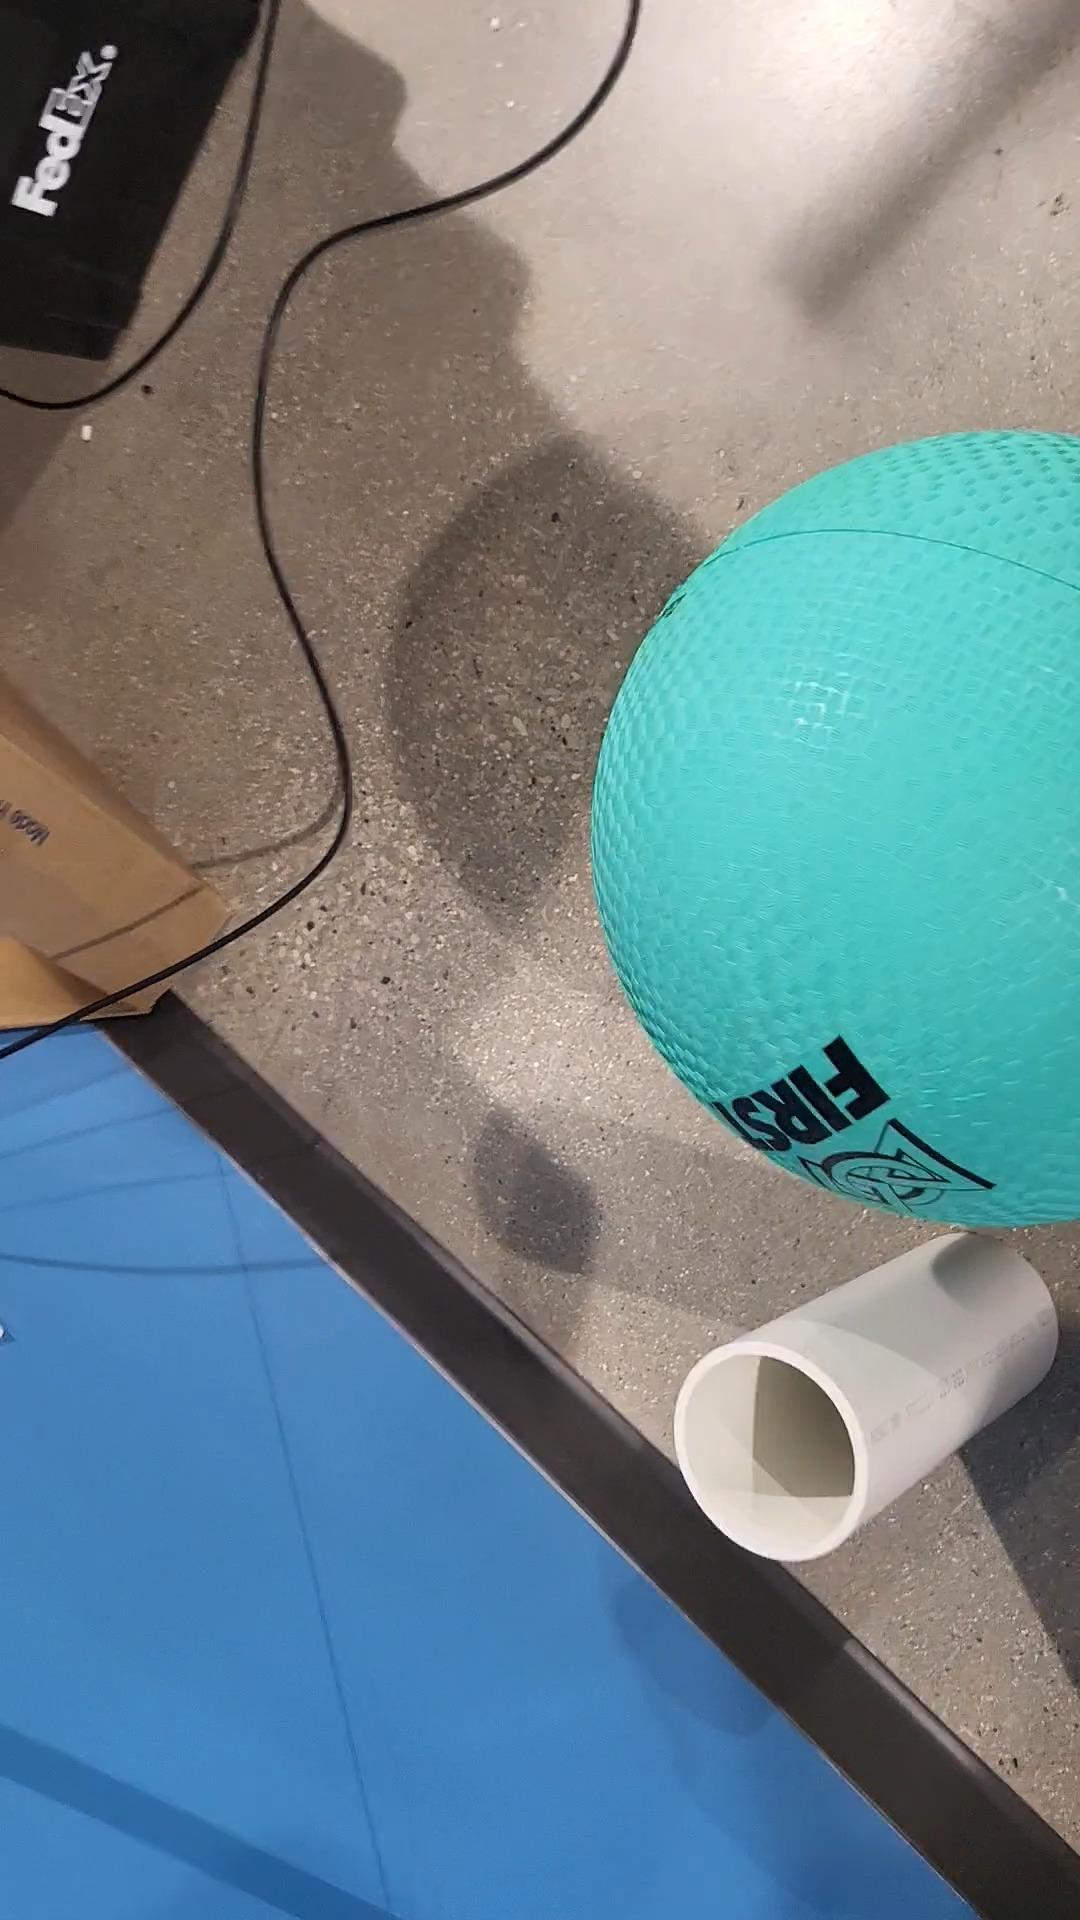algae: (589, 400, 1080, 1238)
coral: (663, 1224, 1047, 1590)
